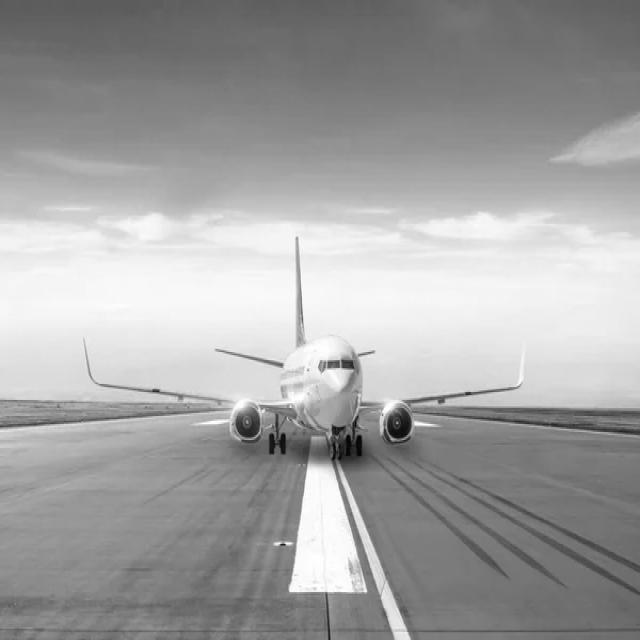Aircraft: (81, 238, 532, 467)
